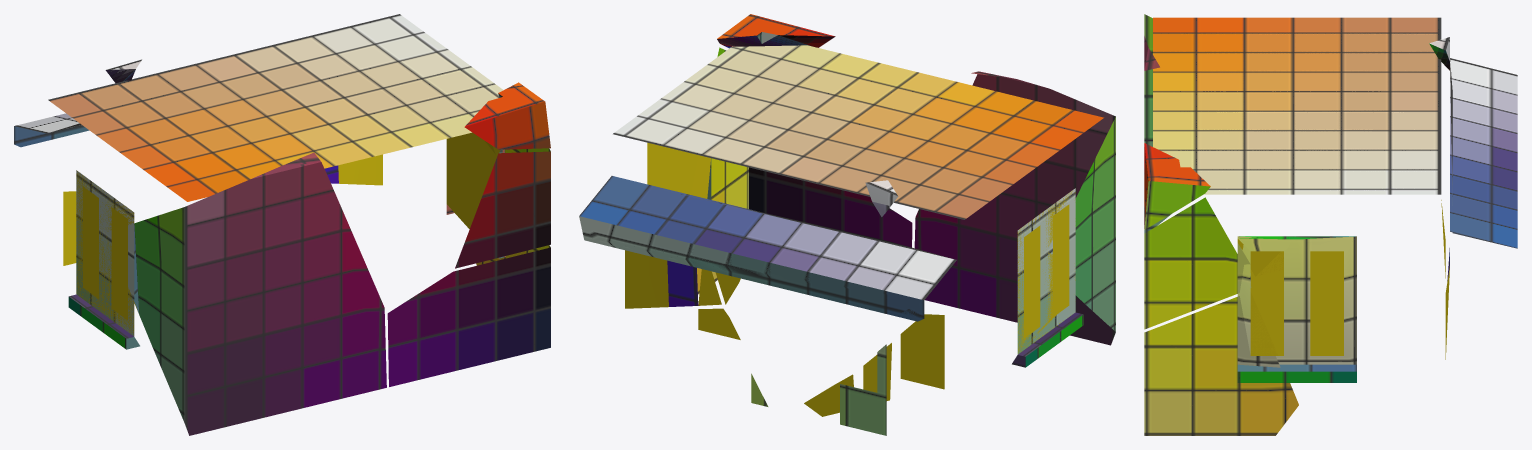
File: BrokenBuilding5.fbx
3 views of the same model, side by side, from view 1: azimuth 30°, elevation 25°; view 2: azimuth 150°, elevation 25°; view 3: azimuth 270°, elevation 25° (orthographic). The views are drawn at different scales.
Visible parts, largest first — view 1: B5_cell.025, B5_cell.002, B5_cell.028, B5_cell.006, B5_cell.010, B5_cell.024, B5_cell.014, B5_cell.016, B5_cell.017, B5_cell.020, B5_cell.032, B5_cell.031; view 2: B5_cell.006, B5_cell.028, B5_cell.002, B5_cell.025, B5_cell.020, B5_cell.010, B5_cell.029, B5_cell.024, B5_cell.032, B5_cell.031, B5_cell.016, B5_cell.015 (+5 smaller); view 3: B5_cell.002, B5_cell.010, B5_cell.006, B5_cell.017, B5_cell.020, B5_cell.014, B5_cell.028, B5_cell.016, B5_cell.025, B5_cell.004, B5_cell.033.
Boxes of the visible parts, x1,y1,x2,y2 form: B5_cell.025: (106,152,386,435); B5_cell.002: (53,14,502,201); B5_cell.028: (76,14,503,199); B5_cell.006: (48,17,459,200); B5_cell.010: (387,245,550,386); B5_cell.024: (68,170,139,349); B5_cell.014: (455,148,550,268); B5_cell.016: (464,82,550,149); B5_cell.017: (446,132,505,256); B5_cell.020: (14,113,89,147); B5_cell.032: (325,154,382,185); B5_cell.031: (63,191,76,265); B5_cell.006: (651,45,1085,219); B5_cell.028: (614,45,1103,217); B5_cell.002: (613,45,1068,219); B5_cell.025: (914,71,1115,345); B5_cell.020: (579,176,956,321); B5_cell.010: (691,155,912,294); B5_cell.029: (579,191,956,321); B5_cell.024: (1012,188,1083,367); B5_cell.032: (625,250,721,308); B5_cell.031: (900,314,944,389); B5_cell.016: (717,14,835,48); B5_cell.015: (840,344,886,435); B5_cell.002: (1153,17,1441,194); B5_cell.010: (1144,292,1298,435); B5_cell.006: (1153,17,1441,194); B5_cell.017: (1237,236,1356,382); B5_cell.020: (1450,58,1517,248); B5_cell.014: (1144,197,1251,329); B5_cell.028: (1153,17,1440,194); B5_cell.016: (1144,143,1210,229); B5_cell.025: (1144,14,1170,233); B5_cell.004: (1237,236,1295,276); B5_cell.033: (1429,37,1449,70).
Bounding box in the file's own units: 27.52 × 16.46 × 21.98.
